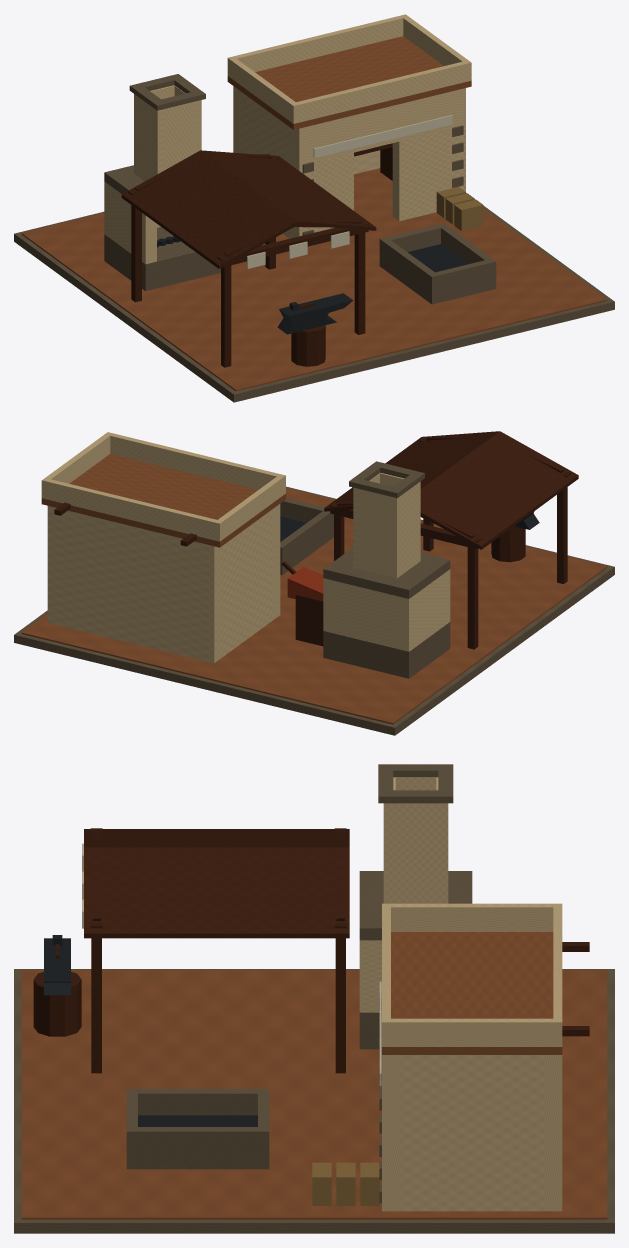
File: Berber_Blacksmith_Age3.fbx
3 views of the same model, one above another, from view 1: azimuth 30°, elevation 25°; view 2: azimuth 150°, elevation 25°; view 3: azimuth 270°, elevation 25° (orthographic). The views are drawn at different scales.
Parts seen in each view (by area): view 1: court_floor, pitched_roof, foundation, store_roof, store_open_lintel, pitched_roof.001, store_front_jamb.001, store_parapet, store_parapet.001, hearth_base, store_side, chimney_side (+21 smaller); view 2: court_floor, store_back, pitched_roof, foundation, store_roof, store_side, store_parapet.001, store_parapet, hearth_base, forge_back, pitched_roof.001, forge_side (+20 smaller); view 3: court_floor, pitched_roof.001, store_side.001, store_roof, foundation, chimney_side.001, trough_side.001, pitched_roof, store_end_parapet, store_end_parapet.001, trough_side, store_back (+19 smaller).
Boxes of the visible parts, x1,y1,x2,y2 form: court_floor: (21, 168, 607, 391); pitched_roof: (121, 150, 297, 268); foundation: (14, 193, 614, 402); store_roof: (227, 36, 471, 129); store_open_lintel: (292, 88, 465, 165); pitched_roof.001: (201, 150, 376, 230); store_front_jamb.001: (392, 125, 465, 221); store_parapet: (290, 60, 471, 123); store_parapet.001: (227, 14, 408, 77); hearth_base: (104, 227, 220, 291); store_side: (240, 91, 292, 238); chimney_side: (134, 94, 165, 181); court_floor: (21, 488, 607, 724); store_back: (47, 506, 220, 663); pitched_roof: (420, 431, 578, 549); foundation: (14, 486, 614, 735); store_roof: (41, 454, 285, 547); store_side: (220, 508, 273, 658); store_parapet.001: (41, 478, 223, 541); store_parapet: (105, 432, 285, 495); hearth_base: (323, 622, 450, 678); forge_back: (335, 581, 397, 648); pitched_roof.001: (324, 431, 499, 511); forge_side: (397, 569, 450, 651); court_floor: (21, 970, 607, 1219); pitched_roof.001: (84, 847, 349, 938); store_side.001: (400, 1055, 544, 1211); store_roof: (382, 932, 562, 1054); foundation: (14, 969, 614, 1233); chimney_side.001: (383, 803, 448, 903); trough_side.001: (126, 1127, 269, 1161); pitched_roof: (84, 829, 349, 847); store_end_parapet: (391, 903, 553, 931); store_end_parapet.001: (391, 1018, 553, 1046); trough_side: (126, 1089, 269, 1115); store_back: (544, 1055, 562, 1211).
Bounding box in the file's own units: 800 × 372 × 800.
Materials: 8 (8 with a texture image).
